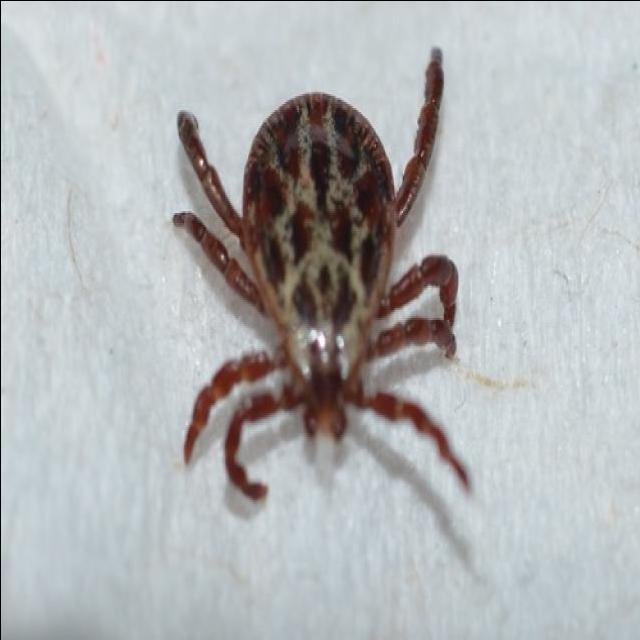Dermacentor Reticulatus-M: (170, 48, 470, 501)
